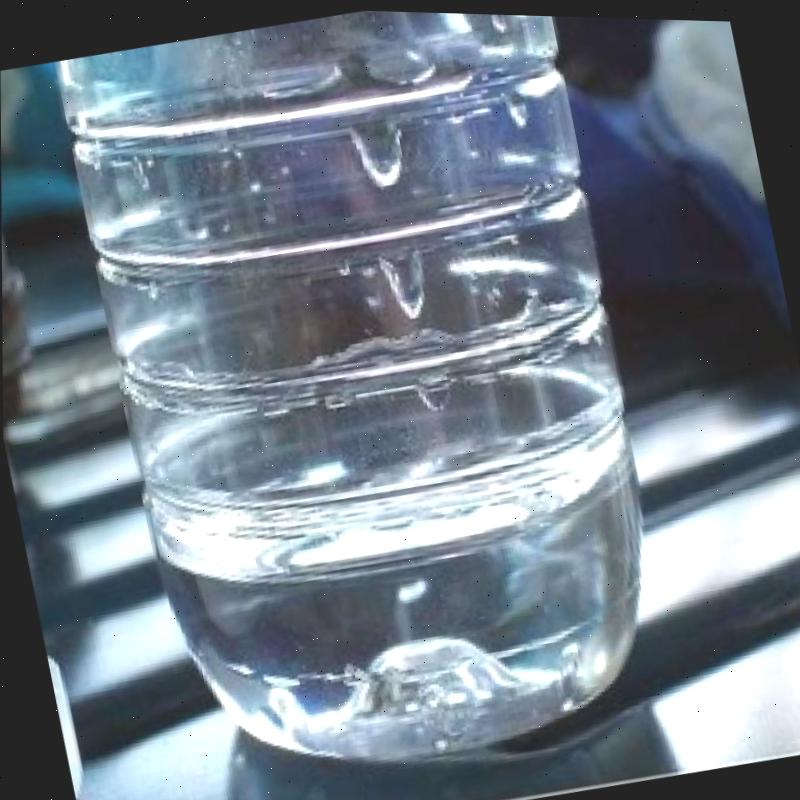botella: (45, 1, 693, 800)
